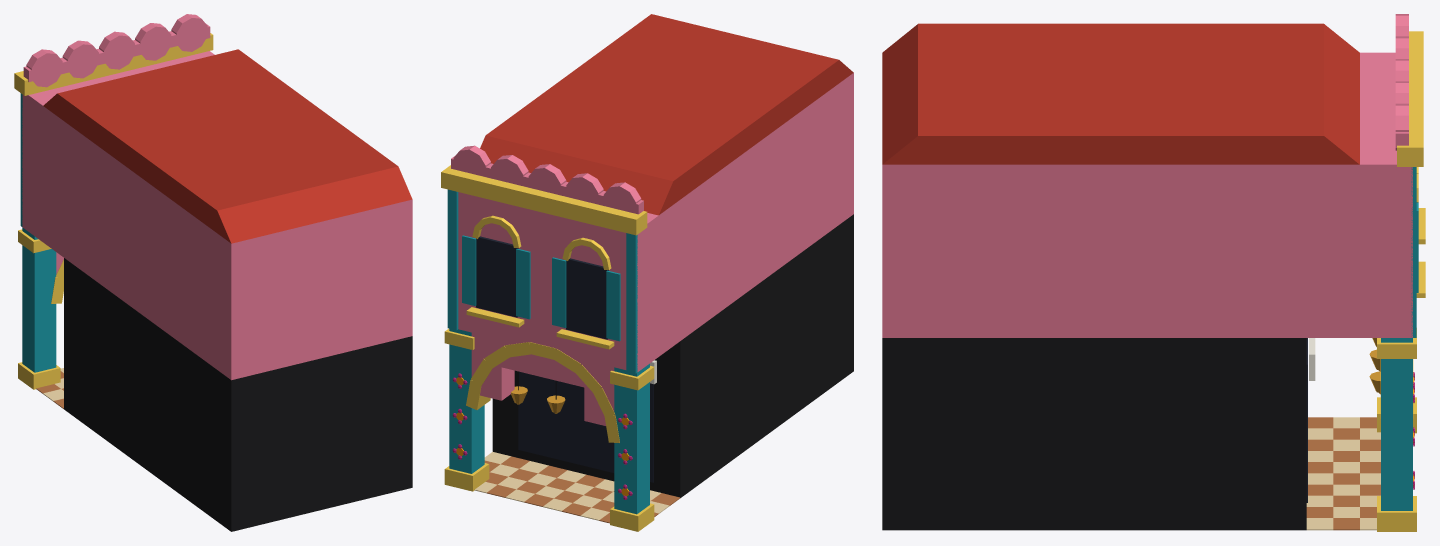
File: env_bf_shopfront_pink.fbx
3 views of the same model, side by side, from view 1: azimuth 30°, elevation 25°; view 2: azimuth 150°, elevation 25°; view 3: azimuth 270°, elevation 25° (orthographic). The views are drawn at different scales.
Visible parts, largest first — view 1: env_bf_shopfront_pink_geo_LOD0, COL_env_bf_shopfront_pink; view 2: env_bf_shopfront_pink_geo_LOD0, COL_env_bf_shopfront_pink; view 3: env_bf_shopfront_pink_geo_LOD0, COL_env_bf_shopfront_pink.
Part boxes in pixels (x1,y1,x2,y2): env_bf_shopfront_pink_geo_LOD0: [14, 14, 412, 408]; COL_env_bf_shopfront_pink: [64, 258, 412, 531]; env_bf_shopfront_pink_geo_LOD0: [441, 14, 853, 531]; COL_env_bf_shopfront_pink: [492, 214, 853, 497]; env_bf_shopfront_pink_geo_LOD0: [882, 14, 1425, 531]; COL_env_bf_shopfront_pink: [882, 338, 1306, 530].
Size of what is drawn, in the model's own units: 5.2 by 8.6 by 10.24.
